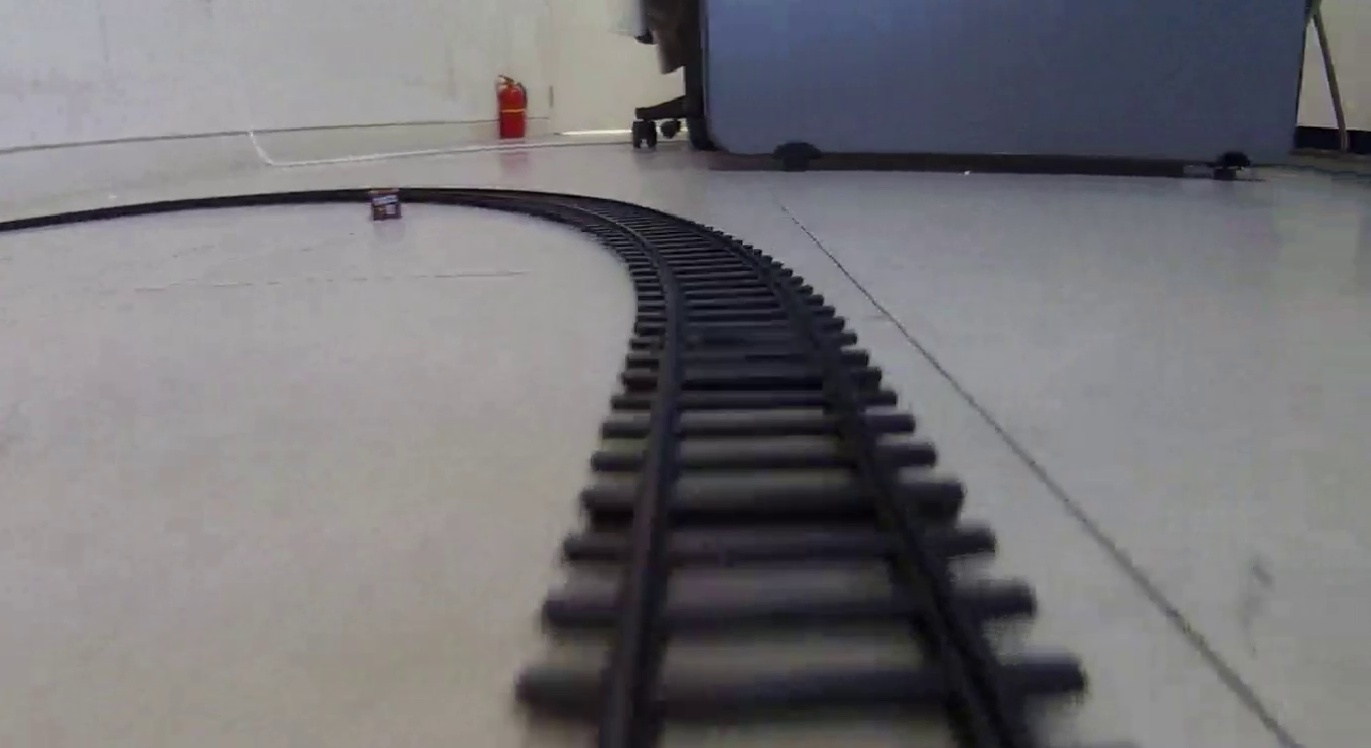box: (372, 190, 403, 220)
